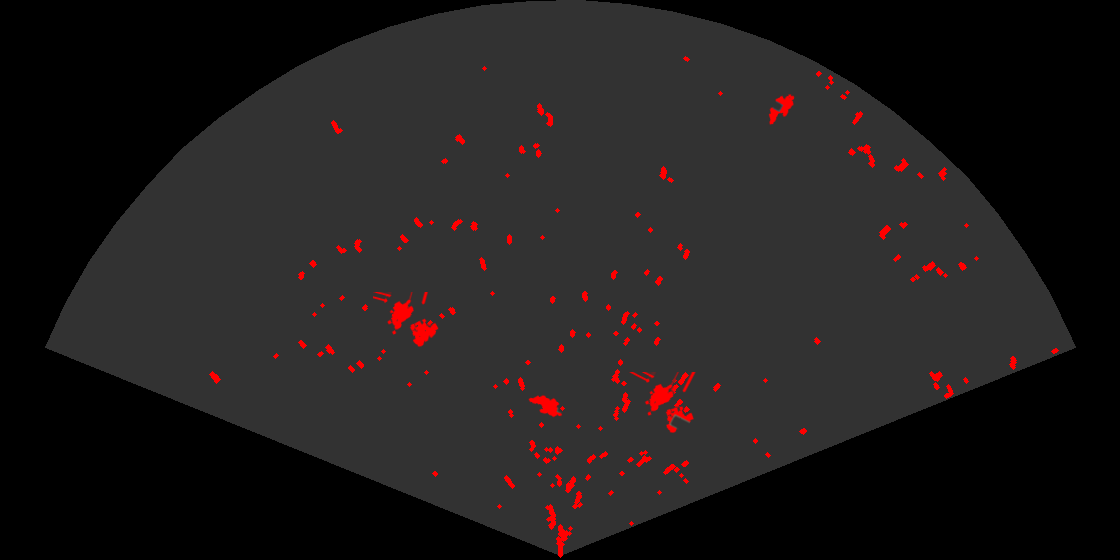AUV: (767, 92, 796, 127), (527, 393, 564, 419)
cage: (628, 372, 697, 435), (373, 292, 440, 349)
